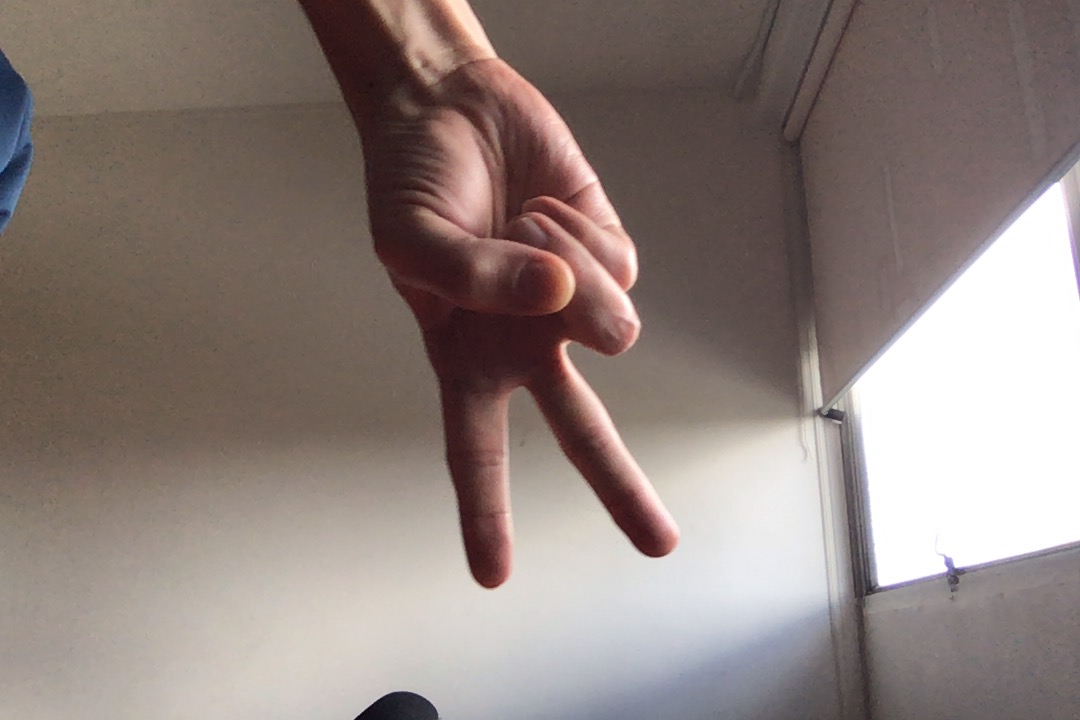peacesign: (342, 58, 688, 597)
